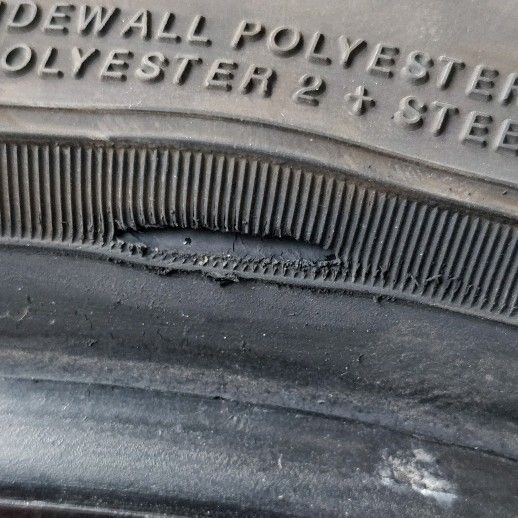cut: (104, 223, 347, 270)
